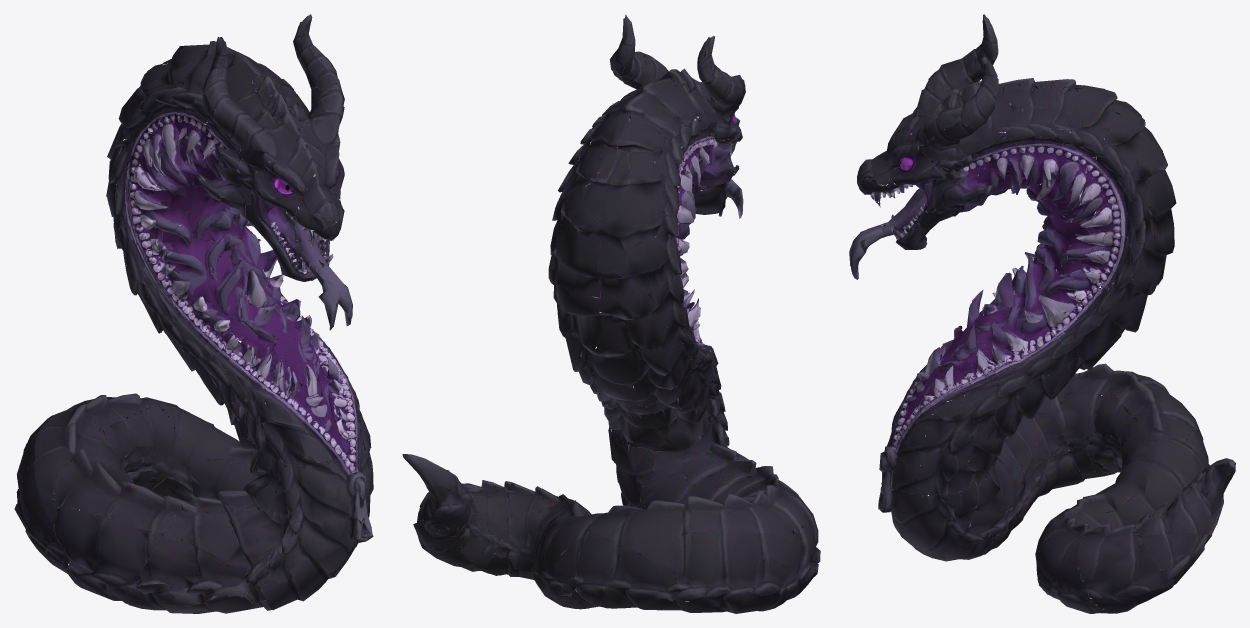
The picture shows the model from 3 angles, left to right: view 1: azimuth 30°, elevation 25°; view 2: azimuth 150°, elevation 25°; view 3: azimuth 270°, elevation 25°; orthographic projection. The views are drawn at different scales.
Parts seen in each view (by area): view 1: Mesh_0; view 2: Mesh_0; view 3: Mesh_0.
Boxes of the visible parts, x1=… form: Mesh_0: x1=14, y1=14, x2=373, y2=613; Mesh_0: x1=402, y1=14, x2=820, y2=613; Mesh_0: x1=849, y1=14, x2=1235, y2=613.
Bounding box in the file's own units: 1.26 × 1.91 × 1.28.
Materials: 1 (1 with a texture image).
